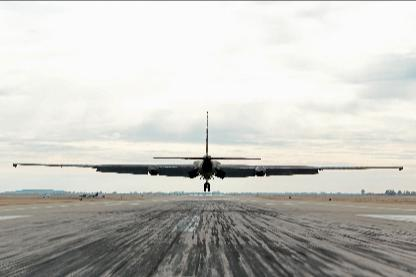Tu160: (12, 111, 402, 190), (78, 191, 98, 196)
